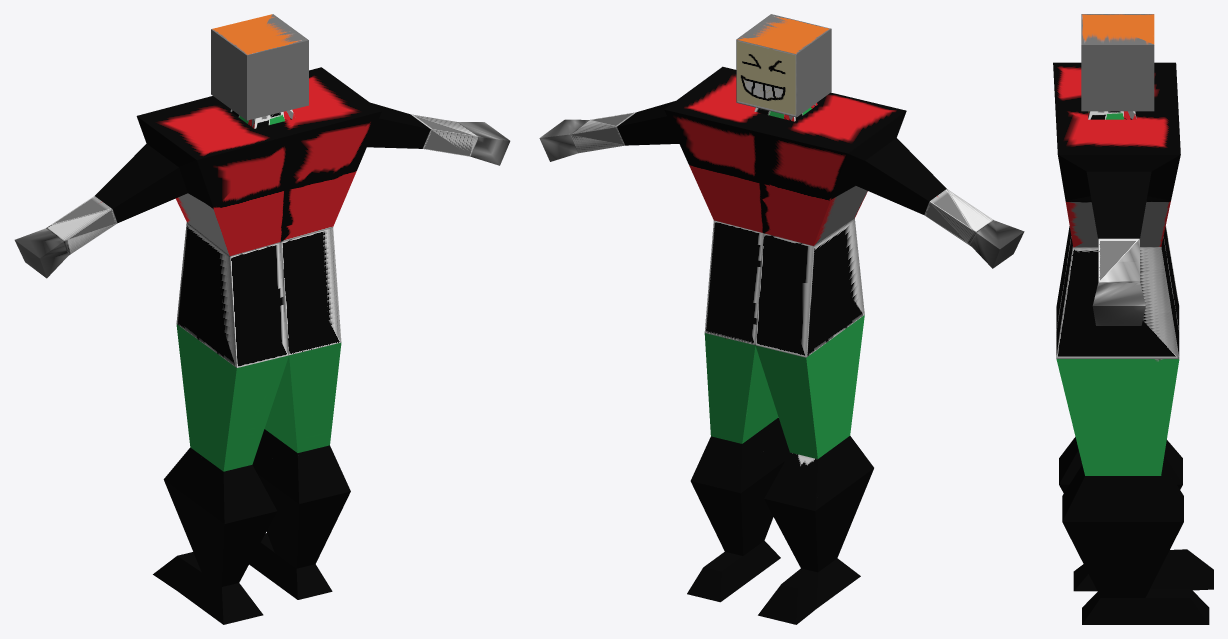
Rendered from man.obj.
The picture shows the model from 3 angles, left to right: view 1: azimuth 30°, elevation 25°; view 2: azimuth 150°, elevation 25°; view 3: azimuth 270°, elevation 25°; orthographic projection. The views are drawn at different scales.
Parts seen in each view (by area): view 1: Cube; view 2: Cube; view 3: Cube.
Part boxes in pixels (left/top/right/bottom): Cube: left=14, top=14, right=510, bottom=624; Cube: left=539, top=14, right=1024, bottom=624; Cube: left=1053, top=14, right=1213, bottom=624.
Size of the model in its own units: 2.17 by 2.46 by 0.6277.
